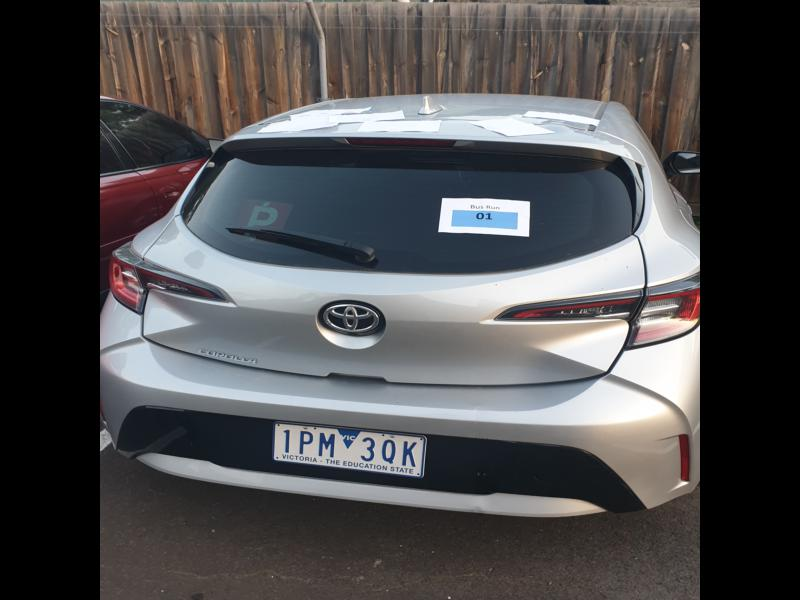BusRun: (451, 209, 519, 230)
PlateNo: (273, 419, 427, 476)
